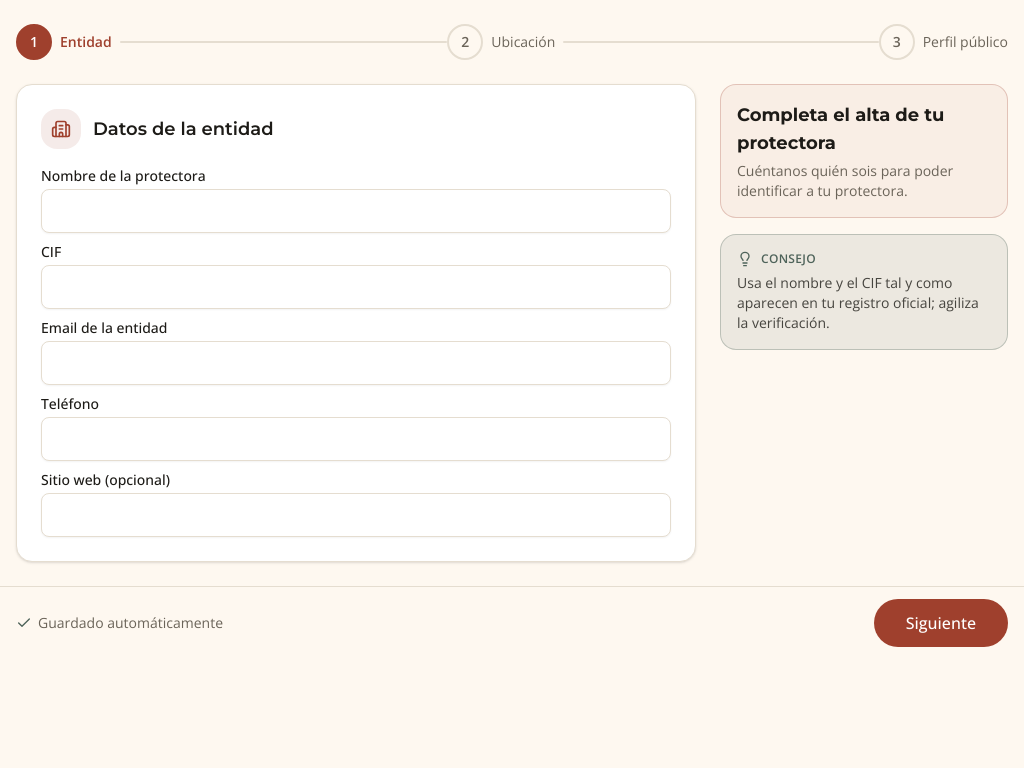
Test: WizardAlta › si el choque 23505 es del slug (nombre), el aviso habla del nombre, no del CIF/email
In the field labelled "Nombre de la protectora": (356, 211) x1=41 y1=189 x2=671 y2=233, type "Refugio Esperanza"
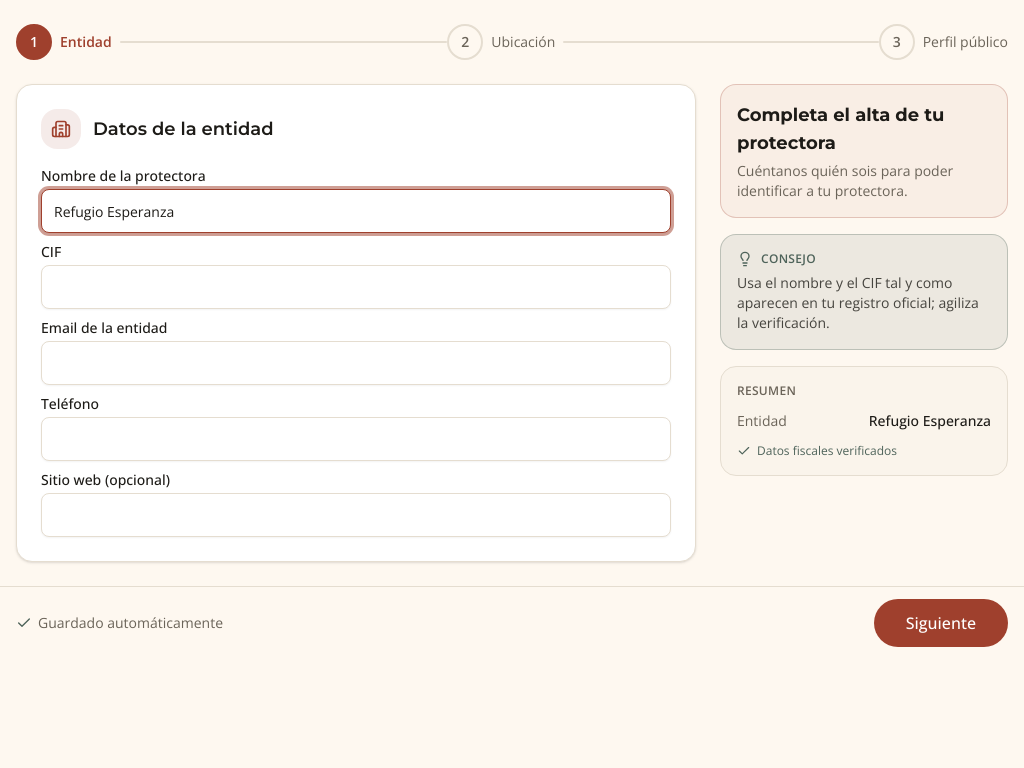
In the field labelled "CIF": (356, 287) x1=41 y1=265 x2=671 y2=309, type "B98000003"
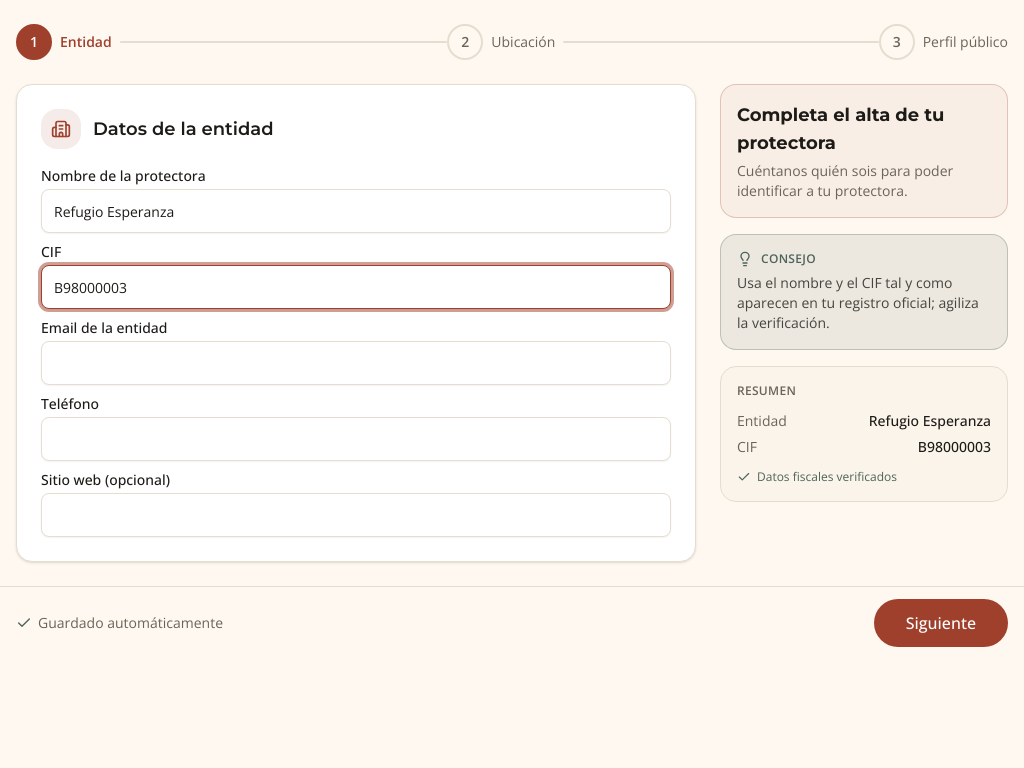
In the field labelled "Email de la entidad": (356, 363) x1=41 y1=341 x2=671 y2=385, type "hola@refugio.org"
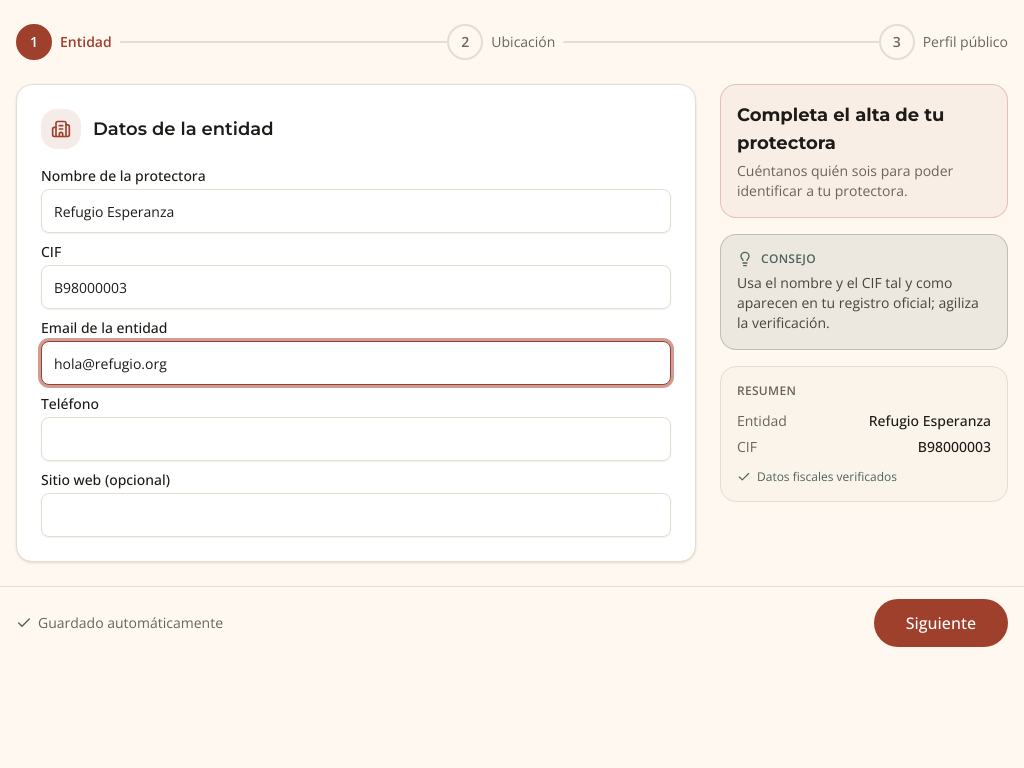
In the field labelled "Teléfono": (356, 439) x1=41 y1=417 x2=671 y2=461, type "600123456"
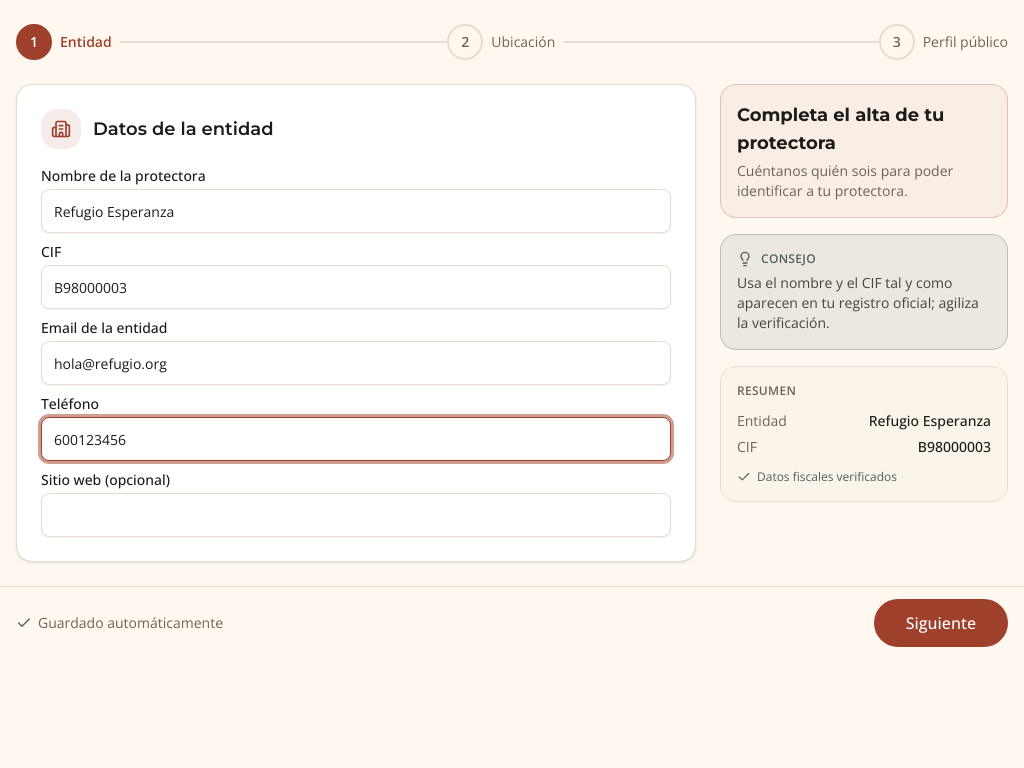
Click the button "Siguiente": (941, 623) x1=874 y1=599 x2=1008 y2=647
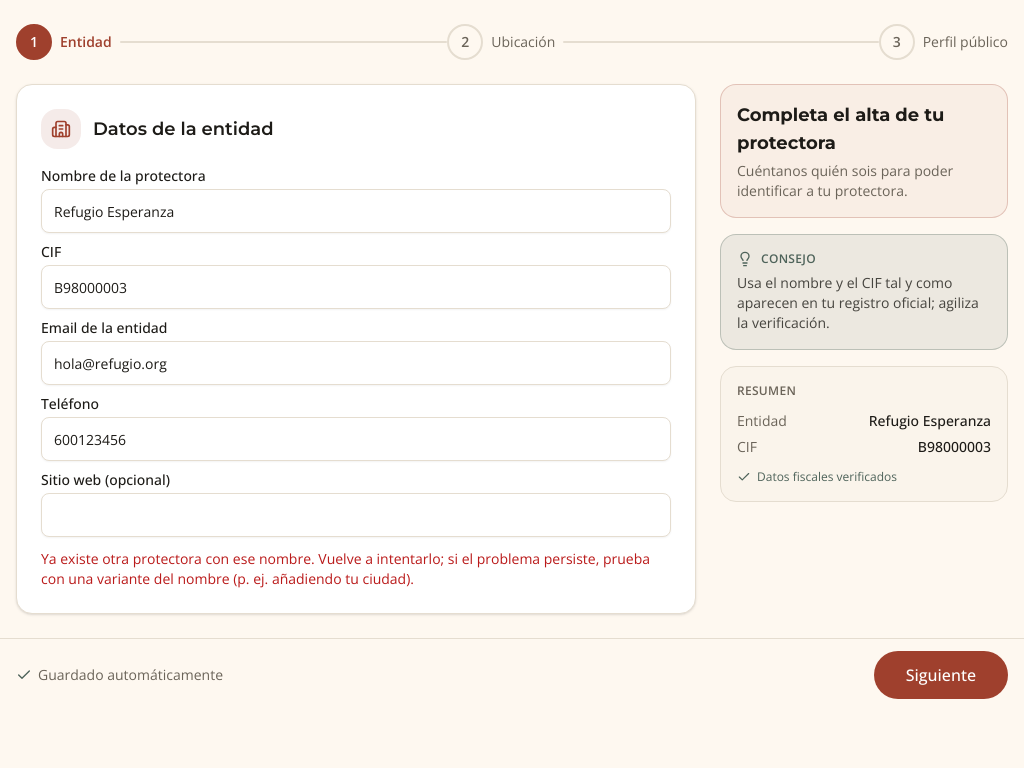
Expected: the text "Ya existe otra protectora con ese nombre. Vuelve a intentarlo; si el problema persiste, prueba con una variante del nomb" is shown, x1=41 y1=549 x2=650 y2=588
